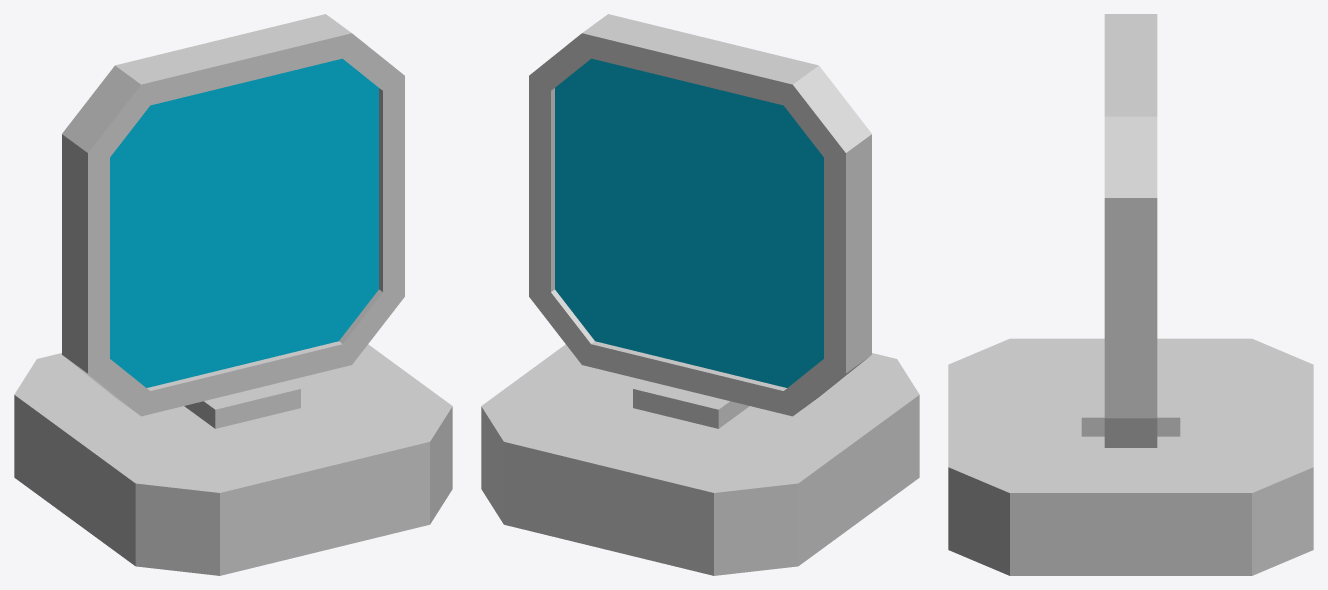
The model's file is Mirror.fbx.
3 views of the same model, side by side, from view 1: azimuth 30°, elevation 25°; view 2: azimuth 150°, elevation 25°; view 3: azimuth 270°, elevation 25° (orthographic).
Visible parts, largest first — view 1: Turret, Base; view 2: Turret, Base; view 3: Base, Turret.
Part boxes in pixels (x1,y1,x2,y2): Turret: (62, 14, 404, 416); Base: (14, 344, 452, 575); Turret: (529, 14, 871, 416); Base: (481, 344, 919, 575); Base: (948, 338, 1313, 575); Turret: (1104, 14, 1157, 447).
Bounding box in the file's own units: 100 × 131 × 100.
